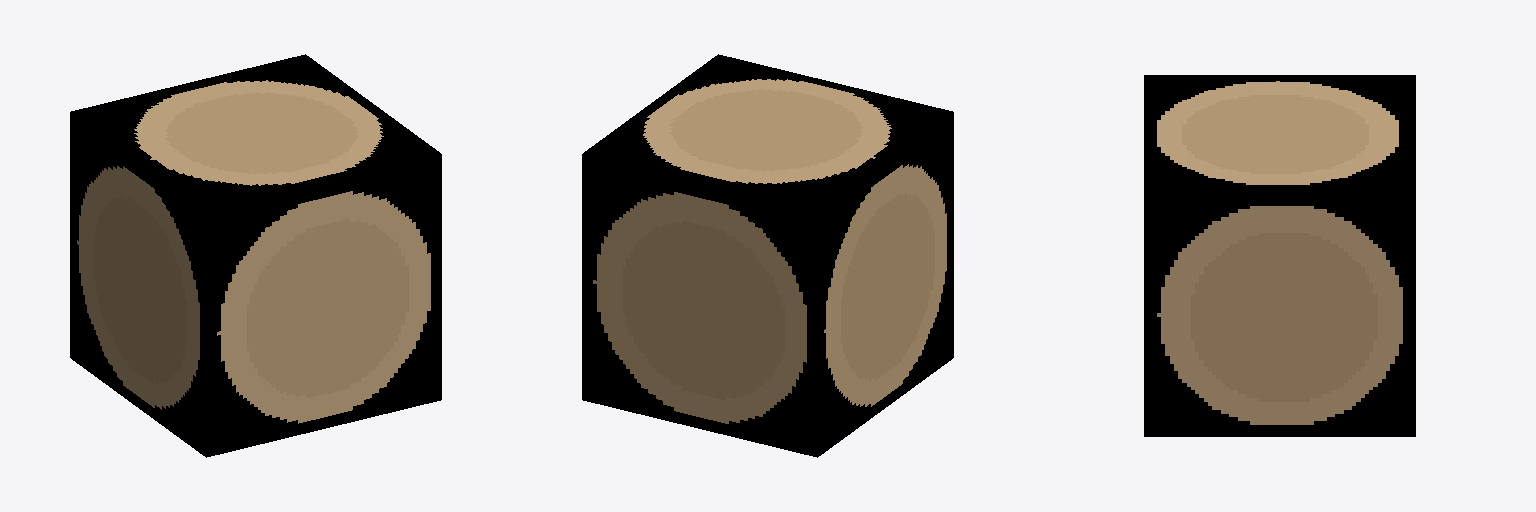
3 views of the same model, side by side, from view 1: azimuth 30°, elevation 25°; view 2: azimuth 150°, elevation 25°; view 3: azimuth 270°, elevation 25° (orthographic).
Visible parts, largest first — view 1: bun; view 2: bun; view 3: bun.
Boxes of the visible parts, box(x1,y1,x2,y2) form: bun: box(70, 54, 441, 457); bun: box(582, 54, 953, 457); bun: box(1144, 75, 1415, 436).
Size of the model in its own units: 1 by 1 by 1.
1 materials, 1 textured.